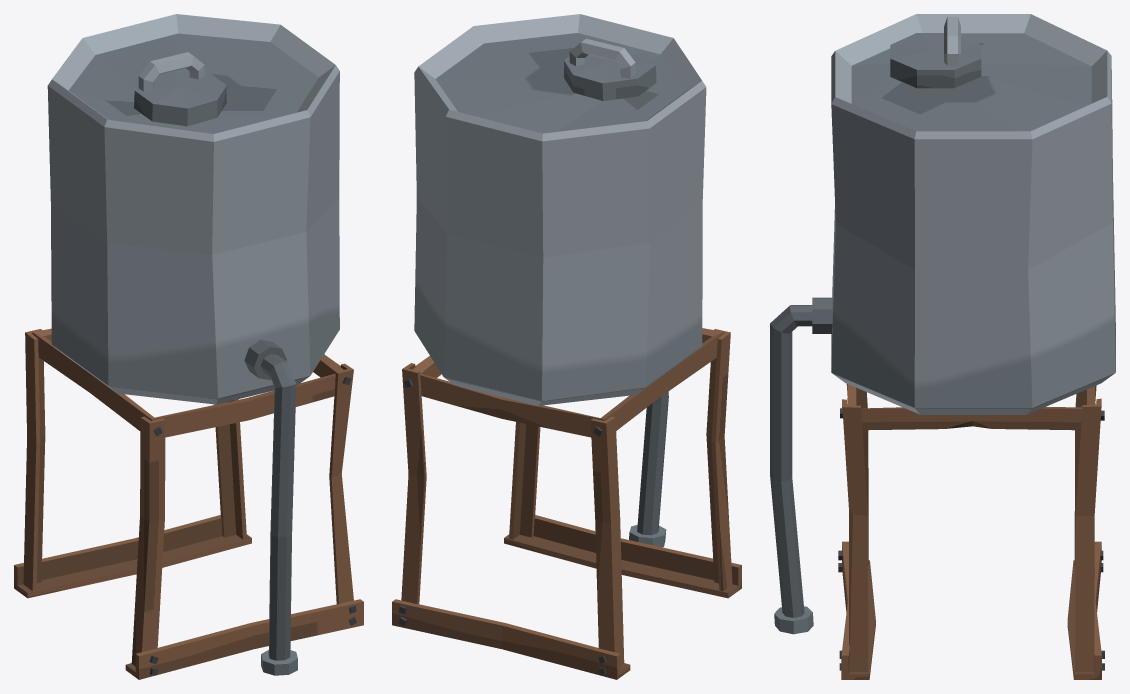
File: SM_Prop_WaterTank_01.glb
3 views of the same model, side by side, from view 1: azimuth 30°, elevation 25°; view 2: azimuth 150°, elevation 25°; view 3: azimuth 270°, elevation 25° (orthographic). The views are drawn at different scales.
Parts seen in each view (by area): view 1: SM_Prop_WaterTank_01; view 2: SM_Prop_WaterTank_01; view 3: SM_Prop_WaterTank_01.
Part boxes in pixels (x1,y1,x2,y2): SM_Prop_WaterTank_01: (14, 14, 363, 679); SM_Prop_WaterTank_01: (392, 14, 741, 679); SM_Prop_WaterTank_01: (770, 14, 1115, 679).
Bounding box in the file's own units: 1.84 × 4.18 × 2.24.
1 material, 1 textured.
